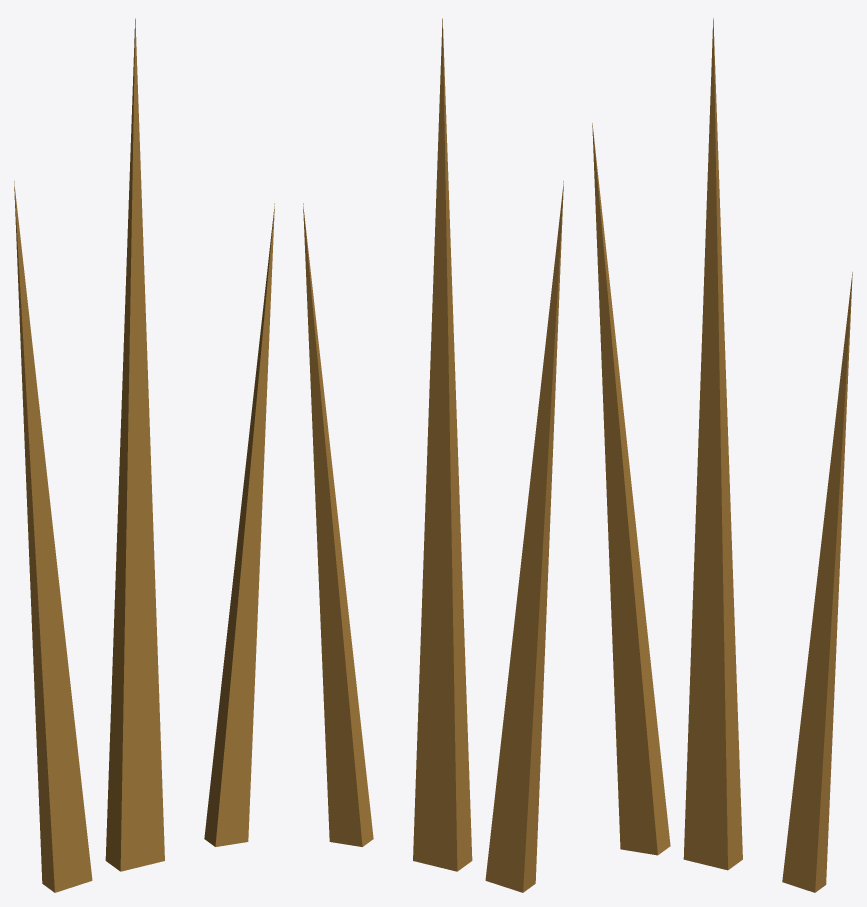
The model's file is Grass_2_Autumn_2_mat.fbx.
The picture shows the model from 3 angles, left to right: view 1: azimuth 30°, elevation 25°; view 2: azimuth 150°, elevation 25°; view 3: azimuth 330°, elevation 25°; orthographic projection.
Visible parts, largest first — view 1: Grass_2_Autumn_2_mat; view 2: Grass_2_Autumn_2_mat; view 3: Grass_2_Autumn_2_mat.
Boxes of the visible parts, box(x1,y1,x2,y2) form: Grass_2_Autumn_2_mat: box(14, 18, 274, 892); Grass_2_Autumn_2_mat: box(303, 18, 563, 892); Grass_2_Autumn_2_mat: box(592, 18, 852, 892).
Size of the model in its own units: 0.1467 by 0.4583 by 0.0145.
